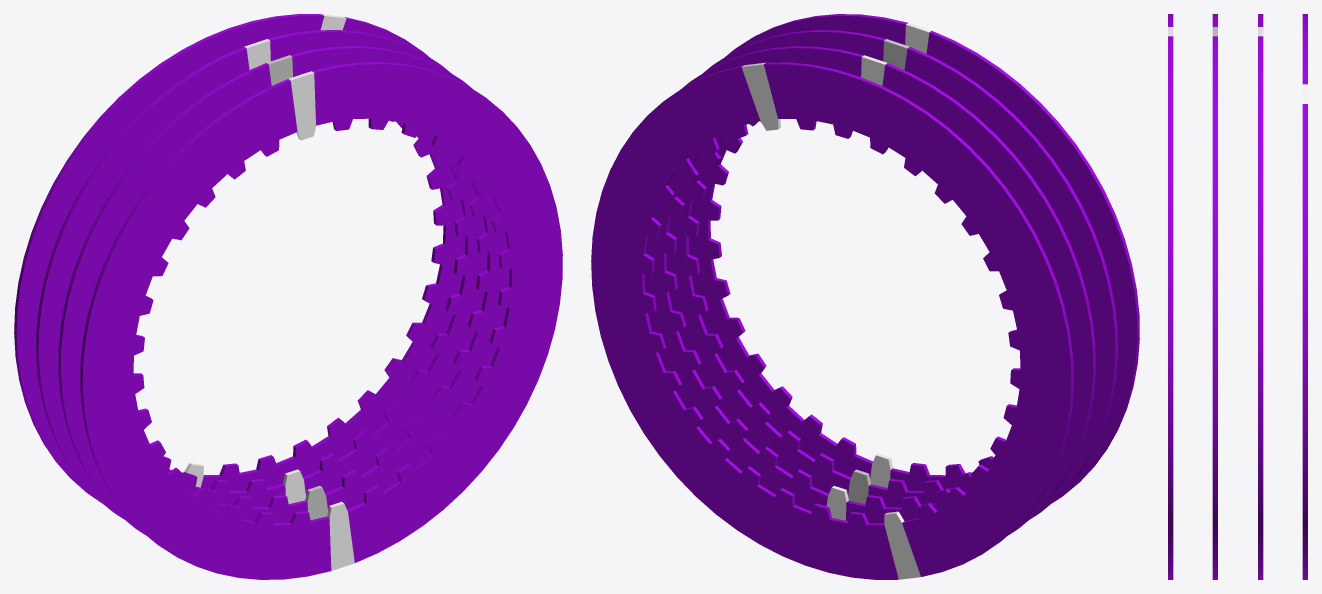
The model's file is 656-clutch pack2.fbx.
3 renders of one model, left to right at view 1: azimuth 30°, elevation 25°; view 2: azimuth 150°, elevation 25°; view 3: azimuth 270°, elevation 25°, orthographic. The views are drawn at different scales.
Visible parts, largest first — view 1: 656D, 656B, 656C, 656A; view 2: 656A, 656C, 656B, 656D; view 3: 656C, 656D, 656B, 656A.
Part boxes in pixels (<box>): 656D: <box>80,62,562,579</box>; 656B: <box>36,30,487,518</box>; 656C: <box>58,46,509,534</box>; 656A: <box>14,14,465,503</box>; 656A: <box>591,62,1073,579</box>; 656C: <box>666,30,1117,519</box>; 656B: <box>644,46,1095,535</box>; 656D: <box>688,14,1139,502</box>; 656C: <box>1212,14,1217,579</box>; 656D: <box>1168,14,1173,579</box>; 656B: <box>1258,14,1263,579</box>; 656A: <box>1302,14,1307,579</box>.
Bounding box in the file's own units: 1120 × 1120 × 277.
